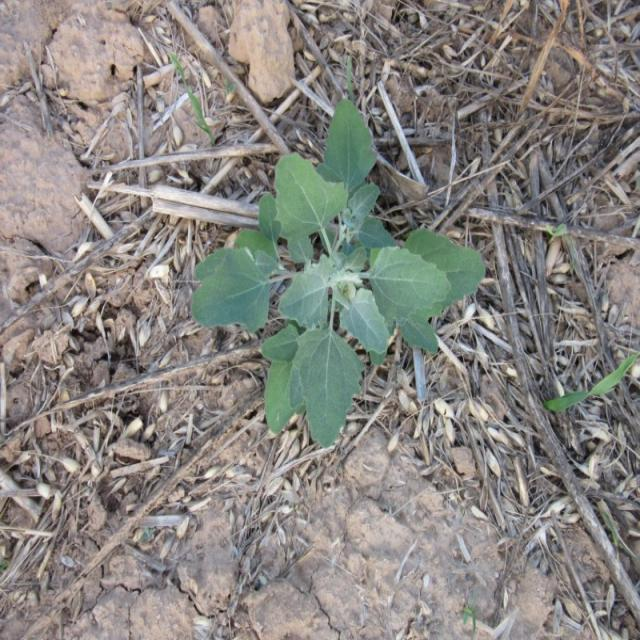ca: (196, 98, 485, 445)
